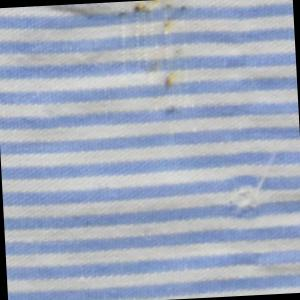Damage: (216, 152, 285, 225)
Oil Stain: (126, 1, 186, 93)
Stain: (48, 2, 130, 29)
